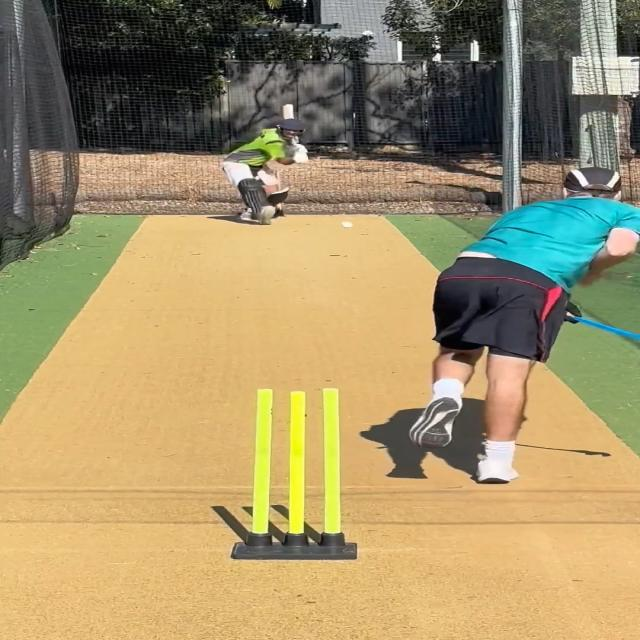ball: (338, 220, 354, 230)
stump: (231, 388, 354, 562)
